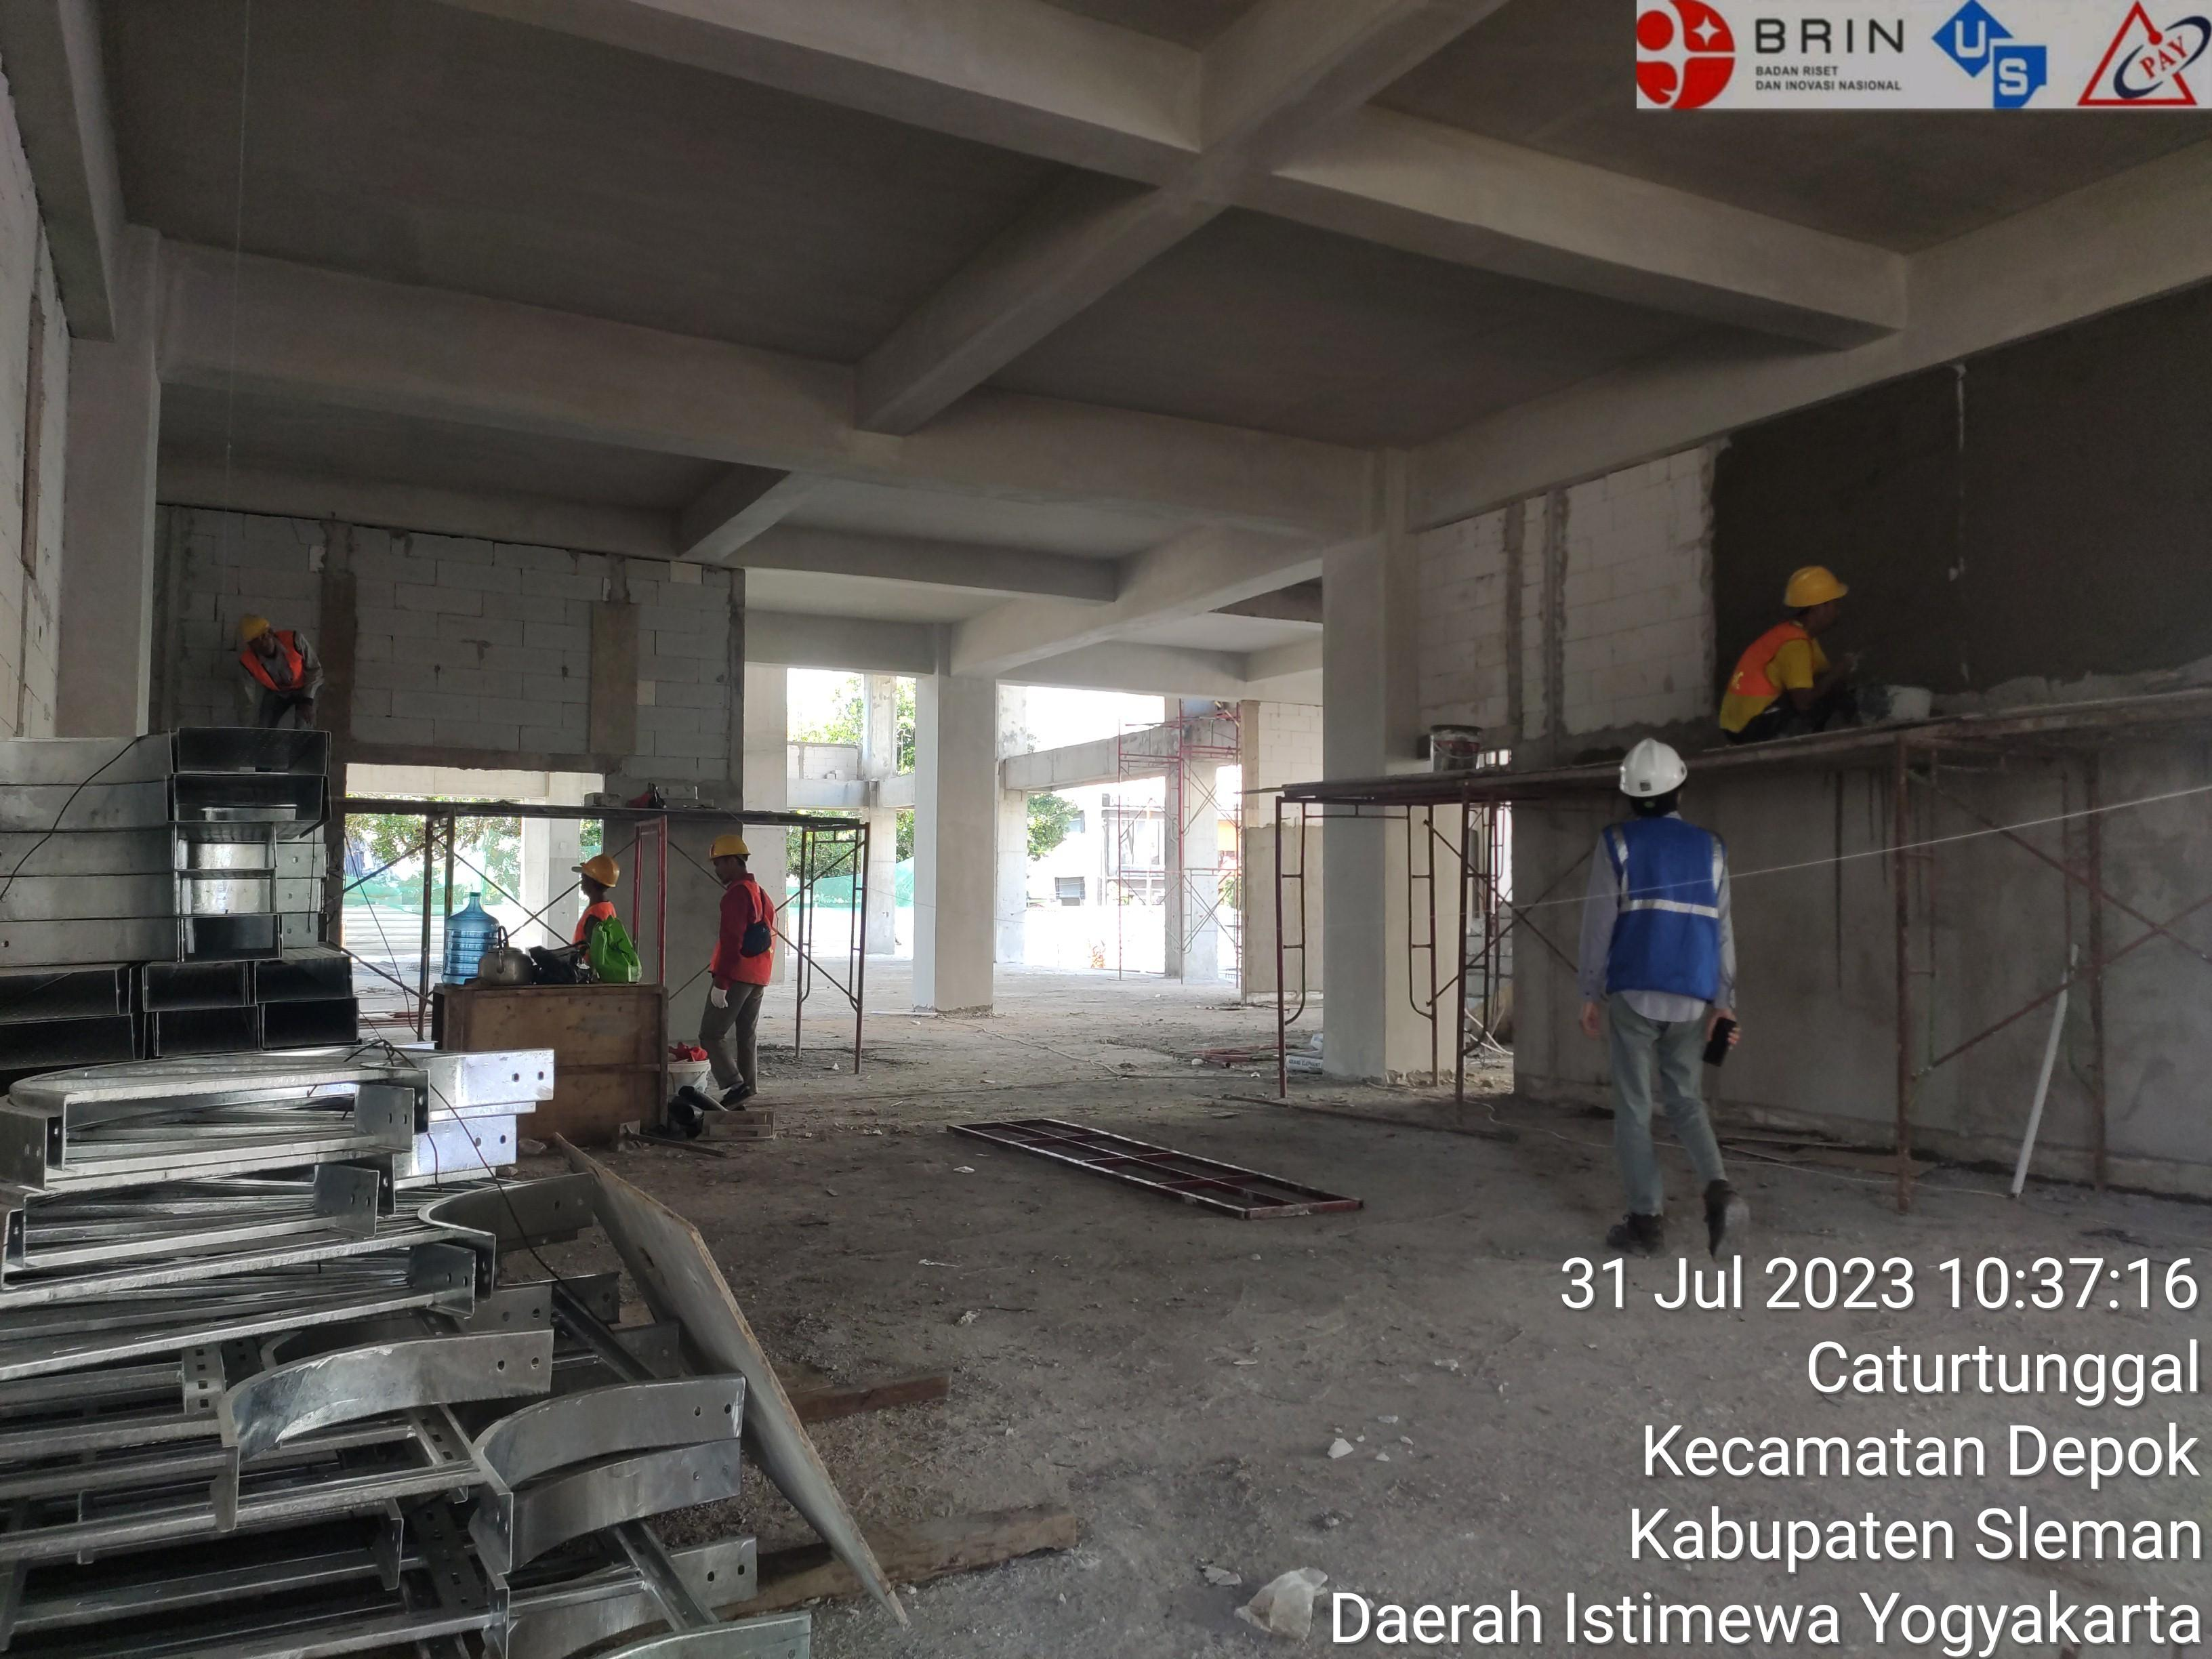hat: (1609, 725, 1700, 816), (1770, 545, 1864, 624), (235, 582, 294, 666), (566, 838, 634, 901), (691, 828, 765, 885)
vest: (1583, 805, 1752, 1037), (1717, 603, 1822, 751), (705, 882, 792, 997), (228, 636, 329, 725), (545, 890, 634, 967)
